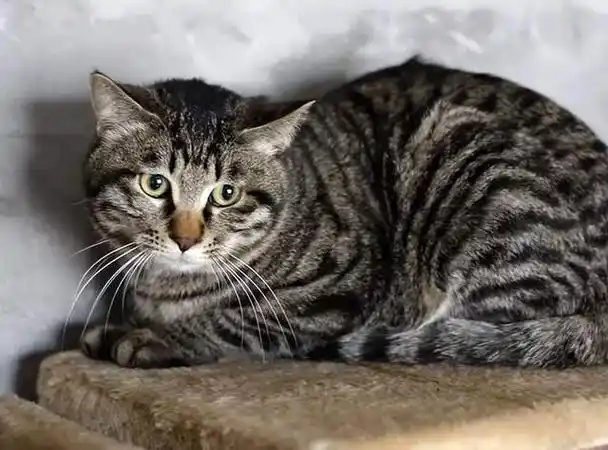狸花猫: (312, 60, 607, 366), (82, 73, 376, 367)
